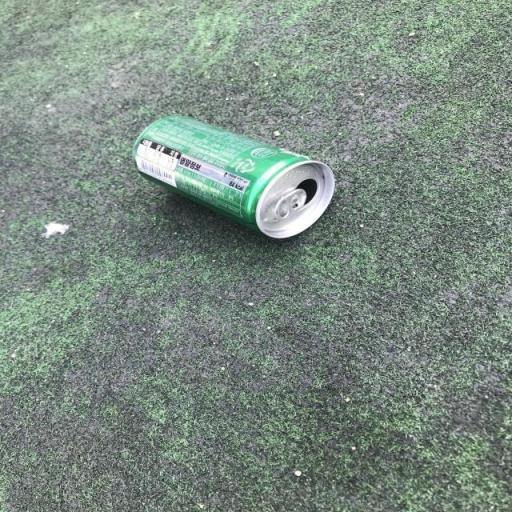metal: (121, 102, 366, 238)
